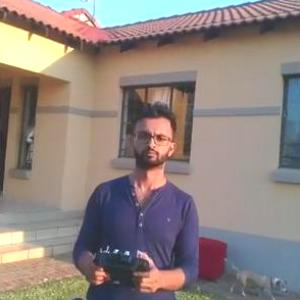follow: (69, 98, 208, 299)
null: (220, 253, 290, 299)
